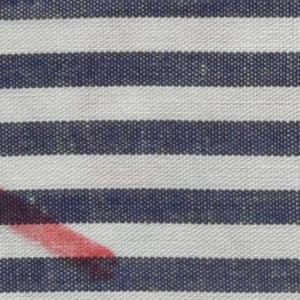Stain: (1, 185, 127, 286), (126, 285, 127, 286)
